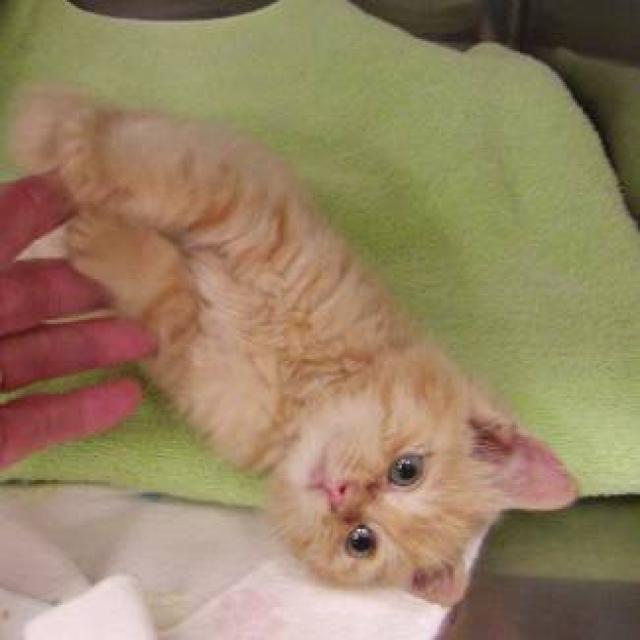cat: (4, 82, 579, 607)
